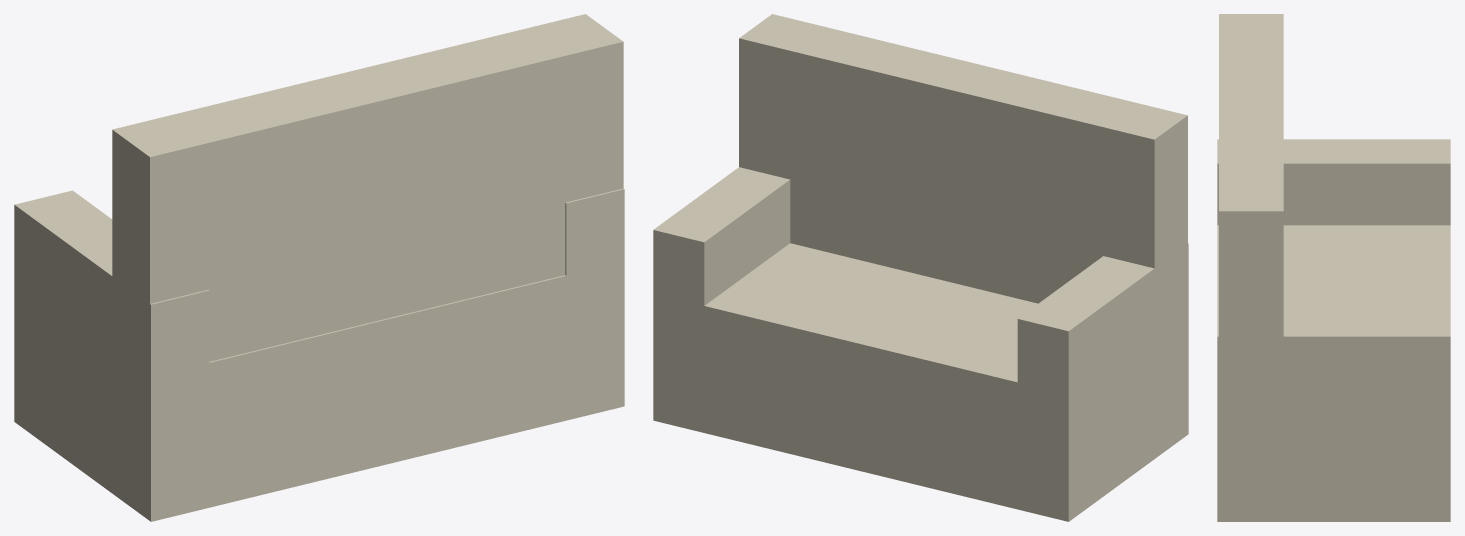
File: couch_02.glb
The picture shows the model from 3 angles, left to right: view 1: azimuth 30°, elevation 25°; view 2: azimuth 150°, elevation 25°; view 3: azimuth 270°, elevation 25°; orthographic projection. The views are drawn at different scales.
Parts seen in each view (by area): view 1: back, base, arm-1, arm1; view 2: back, base, arm1, arm-1; view 3: base, back, arm1, arm-1.
Boxes of the visible parts, left/top/right/bottom form: back: left=112, top=14, right=623, bottom=403; base: left=14, top=272, right=624, bottom=521; arm-1: left=14, top=190, right=209, bottom=484; arm1: left=565, top=188, right=624, bottom=385; back: left=739, top=14, right=1187, bottom=356; base: left=653, top=243, right=1188, bottom=521; arm1: left=653, top=167, right=790, bottom=395; arm-1: left=1017, top=243, right=1188, bottom=490; base: left=1217, top=225, right=1450, bottom=521; back: left=1219, top=14, right=1283, bottom=422; arm1: left=1217, top=312, right=1450, bottom=492; arm-1: left=1217, top=139, right=1450, bottom=225.
Size of the model in its own units: 1.3 by 0.955 by 0.65.
